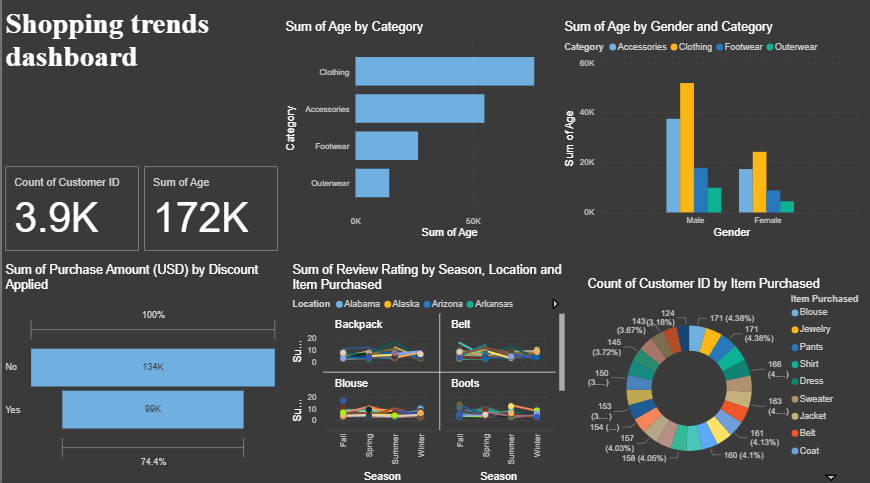

What the dashboard file says about the page in this screenshot:
{"tool":"powerbi","page":{"name":"Dashboard ","canvas":[1280,720],"ordinal":0},"visuals":[{"type":"clusteredColumnChart","fields":{"Category":["shopping_trends.Gender"],"Y":["Sum(shopping_trends.Age)"],"Series":["shopping_trends.Category"]},"box":[821.7,33.4,447.7,326.6],"z":0},{"type":"donutChart","fields":{"Y":["CountNonNull(shopping_trends.Customer ID)"],"Category":["shopping_trends.Item Purchased"]},"box":[855.1,410.9,424.9,309],"z":1000},{"type":"funnel","fields":{"Category":["shopping_trends.Discount Applied"],"Y":["Sum(shopping_trends.Purchase Amount (USD))"]},"box":[0,391.6,410.9,328.3],"z":2000},{"type":"lineChart","fields":{"Category":["shopping_trends.Season"],"Series":["shopping_trends.Location"],"Rows":["shopping_trends.Item Purchased"],"Y":["Sum(shopping_trends.Review Rating)"]},"box":[421.4,391.6,410.9,328.3],"z":3000},{"type":"clusteredBarChart","fields":{"Category":["shopping_trends.Category"],"Y":["Sum(shopping_trends.Age)"]},"box":[410.9,33.4,400.3,326.6],"z":4000},{"type":"cardVisual","fields":{"Data":["CountNonNull(shopping_trends.Customer ID)","Sum(shopping_trends.Age)"]},"box":[0,245,410.8,134.4],"z":5000},{"type":"textbox","box":[0,10.5,410.8,122.5],"z":6000}]}

Visuals, with their boxes in screenshot pixels (x1, y1, x2, y2), scaled from the page's 1280x720 canvas onto the 870x483 screenshot:
clusteredColumnChart - shopping_trends.Gender x Sum(shopping_trends.Age): Rect(558, 22, 863, 241)
donutChart - CountNonNull(shopping_trends.Customer ID) x shopping_trends.Item Purchased: Rect(581, 276, 869, 482)
funnel - shopping_trends.Discount Applied x Sum(shopping_trends.Purchase Amount (USD)): Rect(0, 263, 279, 482)
lineChart - shopping_trends.Season x shopping_trends.Location: Rect(286, 263, 566, 482)
clusteredBarChart - shopping_trends.Category x Sum(shopping_trends.Age): Rect(279, 22, 551, 241)
cardVisual - CountNonNull(shopping_trends.Customer ID) x Sum(shopping_trends.Age): Rect(0, 164, 279, 255)
textbox: Rect(0, 7, 279, 89)
